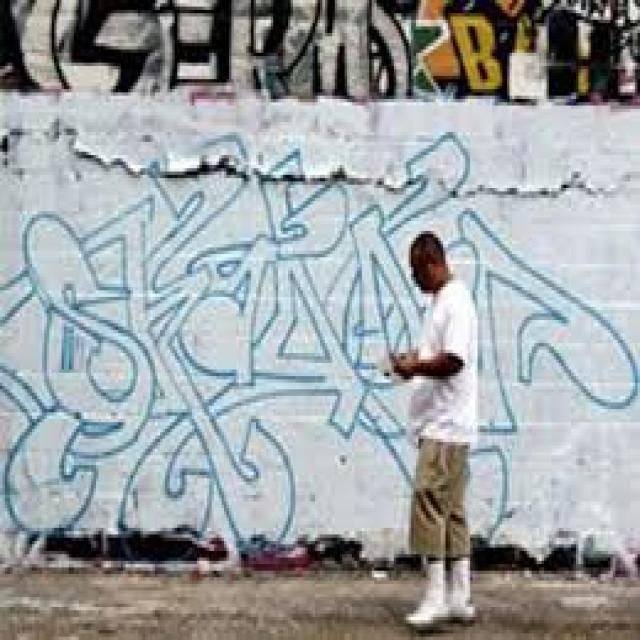-: (3, 134, 637, 540), (0, 1, 640, 106)
